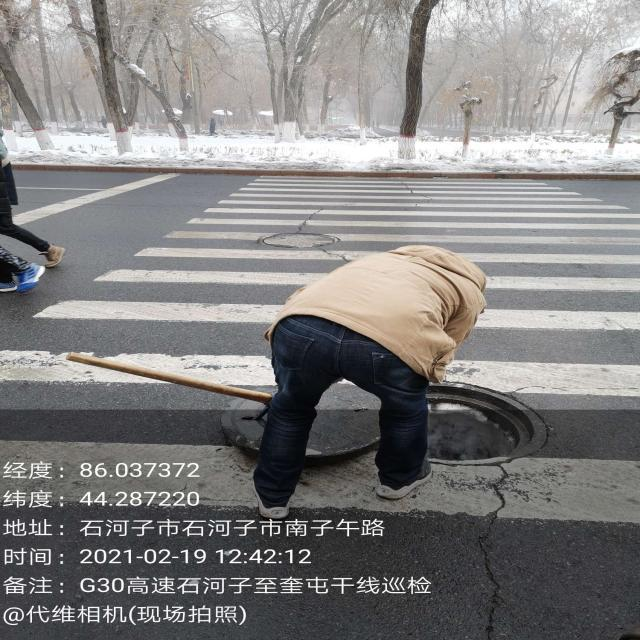manhole: (428, 384, 548, 464)
